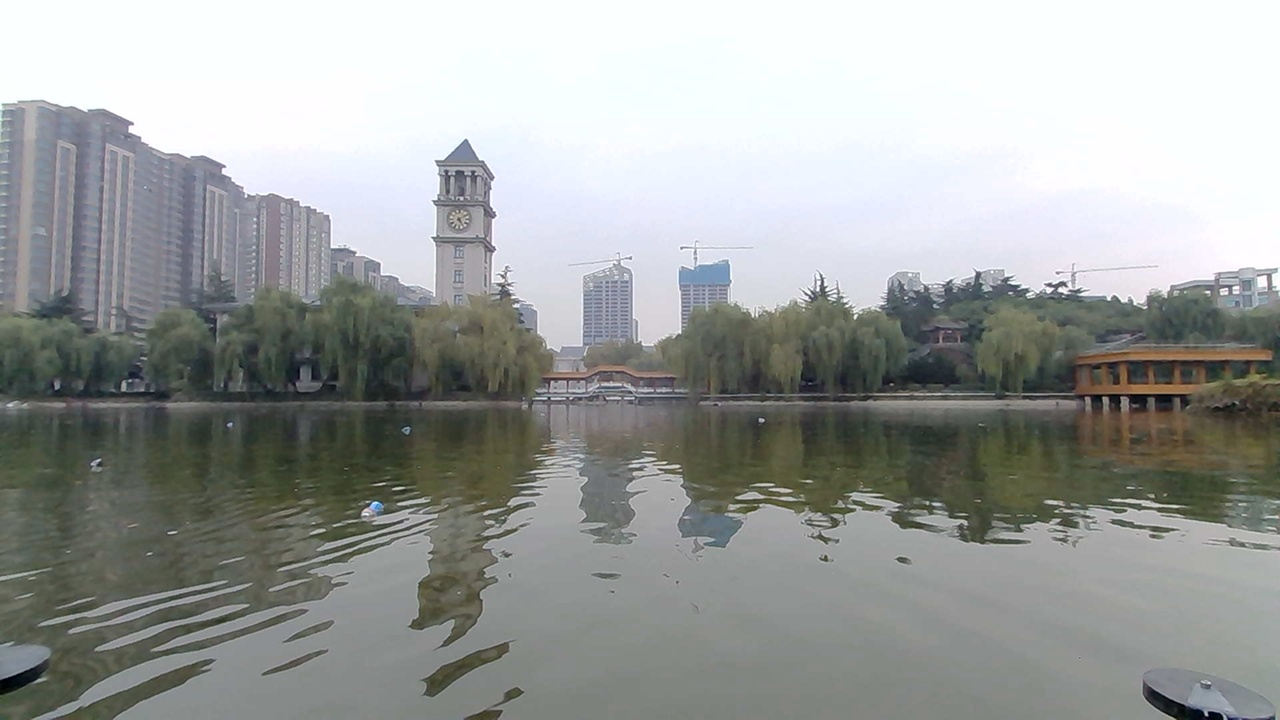bottle: (354, 496, 409, 529), (396, 404, 435, 437), (82, 454, 122, 483), (224, 406, 258, 436), (741, 406, 779, 429)
